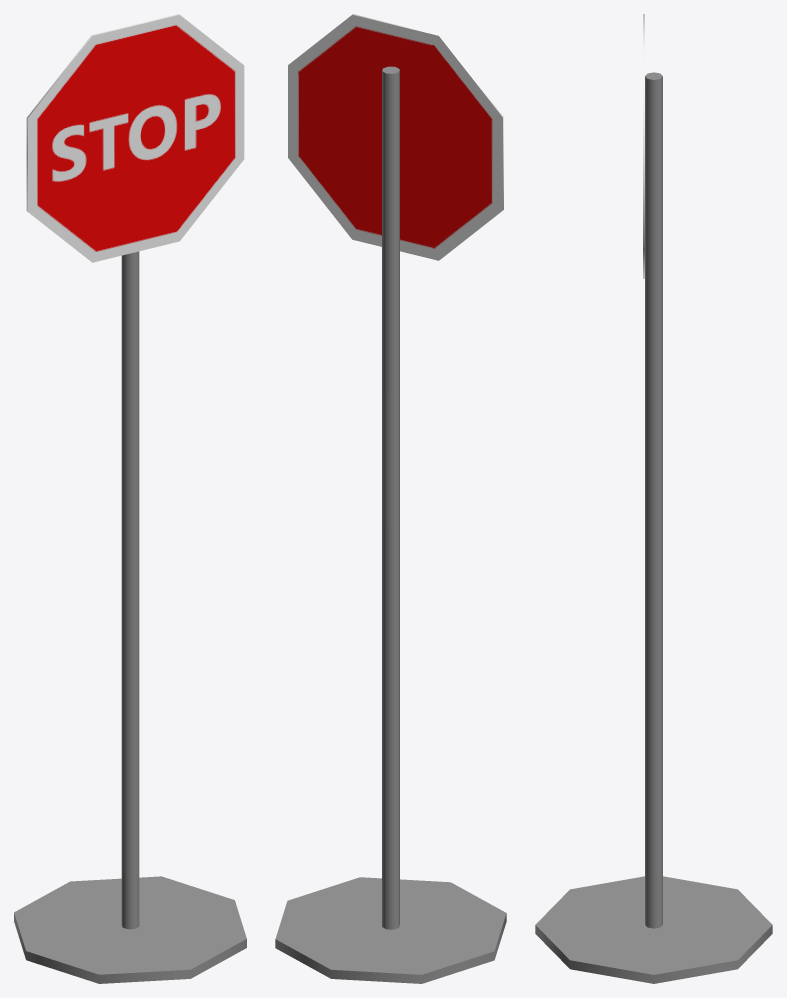
File: Stop.fbx
The picture shows the model from 3 angles, left to right: view 1: azimuth 30°, elevation 25°; view 2: azimuth 150°, elevation 25°; view 3: azimuth 270°, elevation 25°; orthographic projection.
Visible parts, largest first — view 1: Stop; view 2: Stop; view 3: Stop.
Boxes of the visible parts, <box> form: Stop: <box>14,14,246,983</box>; Stop: <box>275,14,506,983</box>; Stop: <box>535,14,772,983</box>.
Bounding box in the file's own units: 0.0441 × 0.1776 × 0.0425.
Materials: 2 (2 with a texture image).
